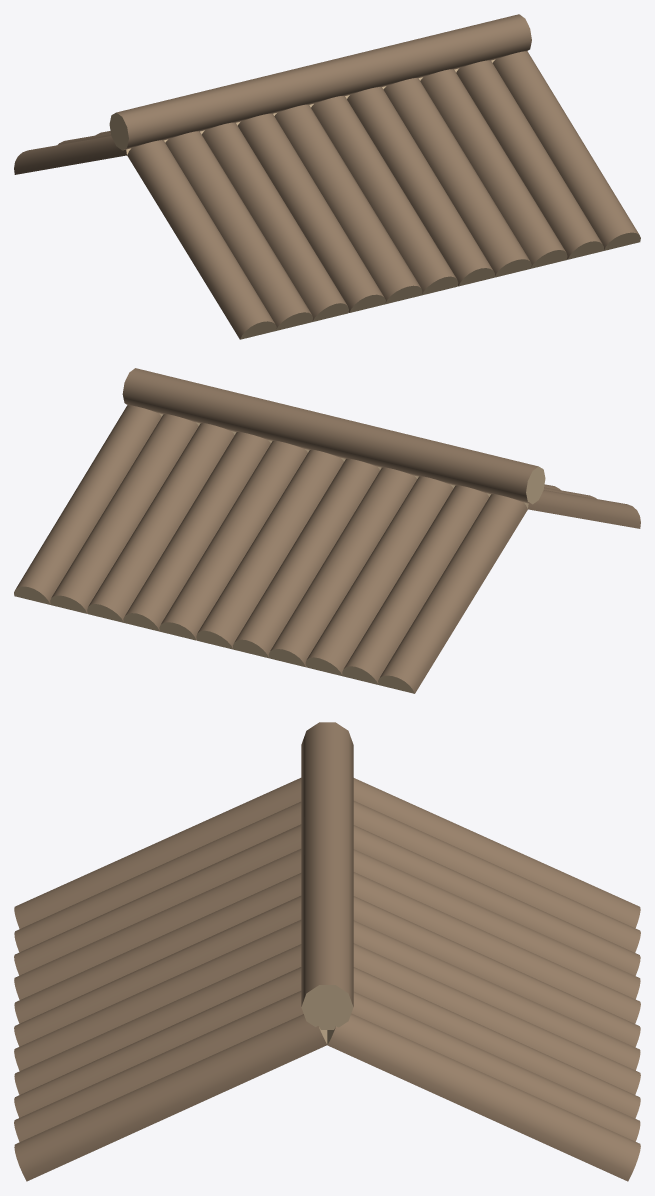
The model's file is log_roof_ridge_low.glb.
The picture shows the model from 3 angles, top to bottom: view 1: azimuth 30°, elevation 25°; view 2: azimuth 150°, elevation 25°; view 3: azimuth 270°, elevation 25°; orthographic projection. The views are drawn at different scales.
Parts seen in each view (by area): view 1: Roof; view 2: Roof; view 3: Roof.
Boxes of the visible parts, x1,y1,x2,y2 form: Roof: (14,14,640,339); Roof: (14,368,640,693); Roof: (14,722,640,1181).
Size of the model in its own units: 3.14 by 1.06 by 3.13.
